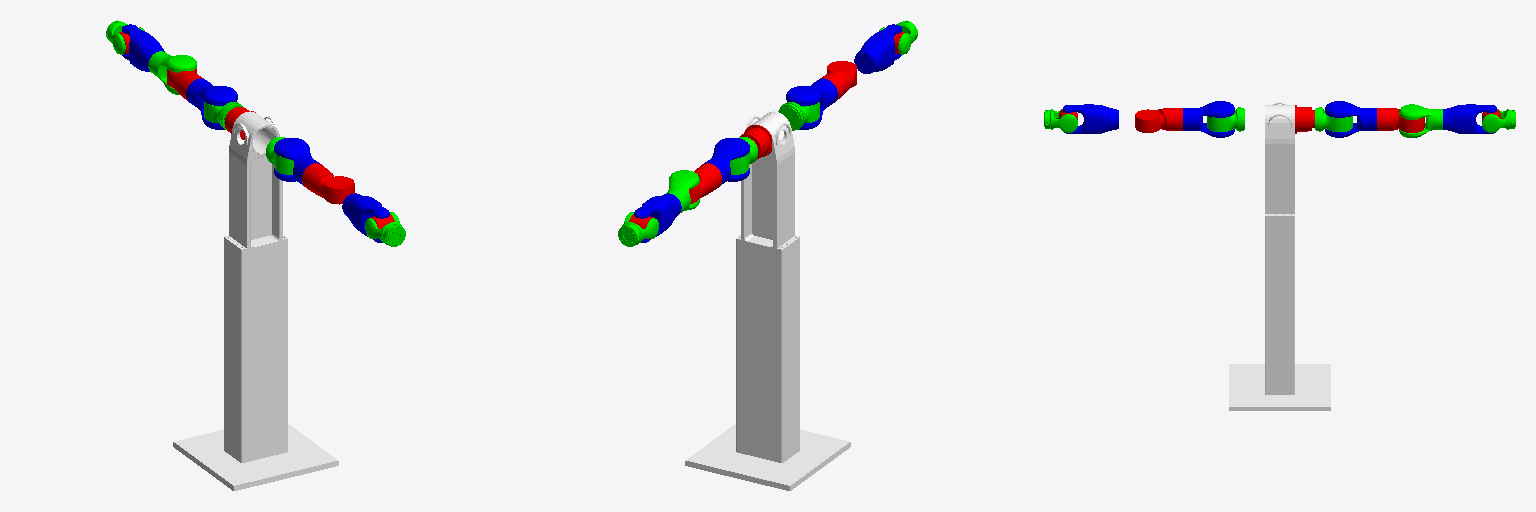
The robot description file, URDF, robot "daimon_tj_fx_dual_arm":
<?xml version='1.0' encoding='utf-8'?>
<robot name="daimon_tj_fx_dual_arm">
  <link name="base_root" />
  <joint name="base_root_joint" type="fixed">
    <origin xyz="0 0 0" rpy="0 0 0" />
    <parent link="base_root" />
    <child link="base_link" />
  </joint>
  <link name="base_link">
    <inertial>
      <origin xyz="6.5371E-09 5.7012E-05 -0.75896" rpy="0 0 0" />
      <mass value="22.519" />
      <inertia ixx="2.3917" ixy="-1.9403E-08" ixz="-1.0872E-07" iyy="2.3623" iyz="-0.00097072" izz="0.1594" />
    </inertial>
    <visual>
      <origin xyz="0 0 0" rpy="0 0 -1.5708" />
      <geometry>
        <mesh filename="package://daimon_tj_fx_description/meshes/base/base_link.STL" />
      </geometry>
      <material name="base_white">
        <color rgba="1 1 1 1" />
      </material>
    </visual>
    <collision>
      <origin xyz="0 0 0" rpy="0 0 -1.5708" />
      <geometry>
        <mesh filename="package://daimon_tj_fx_description/meshes/base/base_link.STL" />
      </geometry>
    </collision>
  </link>
  <link name="Link_L">
    <inertial>
      <origin xyz="0.005 -2.0841E-18 2.1398E-18" rpy="0 0 0" />
      <mass value="0.011184" />
      <inertia ixx="2.2192E-05" ixy="-1.7213E-21" ixz="4.7087E-21" iyy="1.1189E-05" iyz="0" izz="1.1189E-05" />
    </inertial>
    <visual>
      <origin xyz="0 0 0" rpy="0 0 0" />
      <geometry>
        <mesh filename="package://daimon_tj_fx_description/meshes/base/Link_L.STL" />
      </geometry>
      <material name="base_white" />
    </visual>
    <collision>
      <origin xyz="0 0 0" rpy="0 0 0" />
      <geometry>
        <mesh filename="package://daimon_tj_fx_description/meshes/base/Link_L.STL" />
      </geometry>
    </collision>
  </link>
  <joint name="base_to_Link_L_joint" type="fixed">
    <origin xyz="-0.06 0 0" rpy="0 0 0" />
    <parent link="base_link" />
    <child link="Link_L" />
  </joint>
  <link name="Link_R">
    <inertial>
      <origin xyz="-0.005 -3.238E-19 -6.2177E-18" rpy="0 0 0" />
      <mass value="0.011184" />
      <inertia ixx="2.2192E-05" ixy="-2.0036E-21" ixz="4.7087E-21" iyy="1.1189E-05" iyz="-2.4074E-35" izz="1.1189E-05" />
    </inertial>
    <visual>
      <origin xyz="0 0 0" rpy="0 0 0" />
      <geometry>
        <mesh filename="package://daimon_tj_fx_description/meshes/base/Link_R.STL" />
      </geometry>
      <material name="base_white" />
    </visual>
    <collision>
      <origin xyz="0 0 0" rpy="0 0 0" />
      <geometry>
        <mesh filename="package://daimon_tj_fx_description/meshes/base/Link_R.STL" />
      </geometry>
    </collision>
  </link>
  <joint name="base_to_Link_R_joint" type="fixed">
    <origin xyz="0.06 0 0" rpy="0 0 0" />
    <parent link="base_link" />
    <child link="Link_R" />
  </joint>
  <joint name="Link_L_to_Base_L_joint" type="fixed">
    <origin xyz="0.06 0.06 0" rpy="-1.5708 0 0" />
    <parent link="Link_L" />
    <child link="Base_L" />
  </joint>
  <joint name="Link_R_to_Base_R_joint" type="fixed">
    <origin xyz="-0.06 -0.06 0" rpy="1.5708 0 0" />
    <parent link="Link_R" />
    <child link="Base_R" />
  </joint>
  <link name="Base_L">
    <inertial>
      <origin xyz="0.00032267 4.798E-05 0.04066353" rpy="0 0 0" />
      <mass value="1.1962" />
      <inertia ixx="0.00107329" ixy="-1.68E-06" ixz="-1.05E-05" iyy="0.00107003" iyz="-3.43E-06" izz="0.00127315" />
    </inertial>
    <visual>
      <origin xyz="0 0 0" rpy="0 0 0" />
      <geometry>
        <mesh filename="package://daimon_tj_fx_description/meshes/left/Base_L.STL" />
      </geometry>
      <material name="">
        <color rgba="1 0 0 1" />
      </material>
    </visual>
    <collision>
      <origin xyz="0 0 0" rpy="0 0 0" />
      <geometry>
        <mesh filename="package://daimon_tj_fx_description/meshes/left/Base_L.STL" />
      </geometry>
    </collision>
  </link>
  <link name="Link1_L">
    <inertial>
      <origin xyz="0.00002347 0.00557150 -0.03075998" rpy="0 0 0" />
      <mass value="1.9705" />
      <inertia ixx="0.00492293" ixy="0.00000550" ixz="0.00000193" iyy="0.00526513" iyz="0.00033232" izz="0.00188107" />
    </inertial>
    <visual>
      <origin xyz="0 0 0" rpy="0 0 0" />
      <geometry>
        <mesh filename="package://daimon_tj_fx_description/meshes/left/Link1_L.STL" />
      </geometry>
      <material name="">
        <color rgba="0 1 0 1" />
      </material>
    </visual>
    <collision>
      <origin xyz="0 0 0" rpy="0 0 0" />
      <geometry>
        <mesh filename="package://daimon_tj_fx_description/meshes/left/Link1_L.STL" />
      </geometry>
    </collision>
  </link>
  <joint name="Joint1_L" type="revolute">
    <origin xyz="0 0 0.1745" rpy="0 0 0" />
    <parent link="Base_L" />
    <child link="Link1_L" />
    <axis xyz="0 0 1" />
    <limit lower="-3.1067" upper="3.1067" effort="108" velocity="3.1416" />
  </joint>
  <link name="Link2_L">
    <inertial>
      <origin xyz="0.00013483 0.06170460 0.00950639" rpy="0 0 0" />
      <mass value="2.24398" />
      <inertia ixx="0.01194933" ixy="0.00000336" ixz="0.00000091" iyy="0.00361581" iyz="-0.00132804" izz="0.01098356" />
    </inertial>
    <visual>
      <origin xyz="0 0 0" rpy="0 0 0" />
      <geometry>
        <mesh filename="package://daimon_tj_fx_description/meshes/left/Link2_L.STL" />
      </geometry>
      <material name="">
        <color rgba="0 0 1 1" />
      </material>
    </visual>
    <collision>
      <origin xyz="0 0 0" rpy="0 0 0" />
      <geometry>
        <mesh filename="package://daimon_tj_fx_description/meshes/left/Link2_L.STL" />
      </geometry>
    </collision>
  </link>
  <joint name="Joint2_L" type="revolute">
    <origin xyz="0 0 0" rpy="1.5708 0 0" />
    <parent link="Link1_L" />
    <child link="Link2_L" />
    <axis xyz="0 0 1" />
    <limit lower="-2.0944" upper="2.0944" effort="108" velocity="3.1416" />
  </joint>
  <link name="Link3_L">
    <inertial>
      <origin xyz="0.00968562 0.00246599 -0.04627302" rpy="0 0 0" />
      <mass value="1.9242" />
      <inertia ixx="0.00718224" ixy="0.00004413" ixz="0.00089552" iyy="0.00762563" iyz="0.00022096" izz="0.00178597" />
    </inertial>
    <visual>
      <origin xyz="0 0 0" rpy="0 0 0" />
      <geometry>
        <mesh filename="package://daimon_tj_fx_description/meshes/left/Link3_L.STL" />
      </geometry>
      <material name="">
        <color rgba="1 0 0 1" />
      </material>
    </visual>
    <collision>
      <origin xyz="0 0 0" rpy="0 0 0" />
      <geometry>
        <mesh filename="package://daimon_tj_fx_description/meshes/left/Link3_L.STL" />
      </geometry>
    </collision>
  </link>
  <joint name="Joint3_L" type="revolute">
    <origin xyz="0 0.287 0" rpy="-1.5708 0 0" />
    <parent link="Link2_L" />
    <child link="Link3_L" />
    <axis xyz="0 0 1" />
    <limit lower="-3.1067" upper="3.1067" effort="66" velocity="3.1416" />
  </joint>
  <link name="Link4_L">
    <inertial>
      <origin xyz="0.00850411 -0.04718223 0.00941509" rpy="0 0 0" />
      <mass value="1.6085" />
      <inertia ixx="0.00580480" ixy="-0.00066669" ixz="-0.00012722" iyy="0.00223807" iyz="0.00070523" izz="0.00533060" />
    </inertial>
    <visual>
      <origin xyz="0 0 0" rpy="0 0 0" />
      <geometry>
        <mesh filename="package://daimon_tj_fx_description/meshes/left/Link4_L.STL" />
      </geometry>
      <material name="">
        <color rgba="0 1 0 1" />
      </material>
    </visual>
    <collision>
      <origin xyz="0 0 0" rpy="0 0 0" />
      <geometry>
        <mesh filename="package://daimon_tj_fx_description/meshes/left/Link4_L.STL" />
      </geometry>
    </collision>
  </link>
  <joint name="Joint4_L" type="revolute">
    <origin xyz="0.018 0 0" rpy="-1.5708 0 3.1416" />
    <parent link="Link3_L" />
    <child link="Link4_L" />
    <axis xyz="0 0 1" />
    <limit lower="-2.5307" upper="1.0472" effort="66" velocity="3.1416" />
  </joint>
  <link name="Link5_L">
    <inertial>
      <origin xyz="0.00051127 0.00101064 -0.11271739" rpy="0 0 0" />
      <mass value="2.0883" />
      <inertia ixx="0.00626603" ixy="0.00004009" ixz="0.00005338" iyy="0.00564387" iyz="-0.00006193" izz="0.00243632" />
    </inertial>
    <visual>
      <origin xyz="0 0 0" rpy="0 0 0" />
      <geometry>
        <mesh filename="package://daimon_tj_fx_description/meshes/left/Link5_L.STL" />
      </geometry>
      <material name="">
        <color rgba="0 0 1 1" />
      </material>
    </visual>
    <collision>
      <origin xyz="0 0 0" rpy="0 0 0" />
      <geometry>
        <mesh filename="package://daimon_tj_fx_description/meshes/left/Link5_L.STL" />
      </geometry>
    </collision>
  </link>
  <joint name="Joint5_L" type="revolute">
    <origin xyz="0.018 -0.314 0" rpy="-1.5708 0 3.1416" />
    <parent link="Link4_L" />
    <child link="Link5_L" />
    <axis xyz="0 0 1" />
    <limit lower="-3.1067" upper="3.1067" effort="18" velocity="3.1416" />
  </joint>
  <link name="Link6_L">
    <inertial>
      <origin xyz="0.00032659 0.00531336 -0.00030182" rpy="0 0 0" />
      <mass value="0.72496" />
      <inertia ixx="0.00046040" ixy="0.00000189" ixz="0.00000083" iyy="0.00051716" iyz="-0.00000346" izz="0.00042521" />
    </inertial>
    <visual>
      <origin xyz="0 0 0" rpy="0 0 0" />
      <geometry>
        <mesh filename="package://daimon_tj_fx_description/meshes/left/Link6_L.STL" />
      </geometry>
      <material name="">
        <color rgba="1 0 0 1" />
      </material>
    </visual>
    <collision>
      <origin xyz="0 0 0" rpy="0 0 0" />
      <geometry>
        <mesh filename="package://daimon_tj_fx_description/meshes/left/Link6_L.STL" />
      </geometry>
    </collision>
  </link>
  <joint name="Joint6_L" type="revolute">
    <origin xyz="0 0 0" rpy="1.5708 -1.5708 0" />
    <parent link="Link5_L" />
    <child link="Link6_L" />
    <axis xyz="0 0 1" />
    <limit lower="-1.0472" upper="1.0472" effort="18" velocity="3.1416" />
  </joint>
  <link name="Link7_L">
    <inertial>
      <origin xyz="-0.00009108 -0.03153255 0.00889371" rpy="0 0 0" />
      <mass value="0.68606" />
      <inertia ixx="0.00173687" ixy="-0.00000345" ixz="-0.00000116" iyy="0.00089035" iyz="0.00030680" izz="0.00139406" />
    </inertial>
    <visual>
      <origin xyz="0 0 0" rpy="0 0 0" />
      <geometry>
        <mesh filename="package://daimon_tj_fx_description/meshes/left/Link7_L.STL" />
      </geometry>
      <material name="">
        <color rgba="0 1 0 1" />
      </material>
    </visual>
    <collision>
      <origin xyz="0 0 0" rpy="0 0 0" />
      <geometry>
        <mesh filename="package://daimon_tj_fx_description/meshes/left/Link7_L.STL" />
      </geometry>
    </collision>
  </link>
  <joint name="Joint7_L" type="revolute">
    <origin xyz="0 0 0" rpy="1.5708 -1.5708 0" />
    <parent link="Link6_L" />
    <child link="Link7_L" />
    <axis xyz="0 0 1" />
    <limit lower="-1.5708" upper="1.5708" effort="18" velocity="3.1416" />
  </joint>
  <link name="ee_link_L" />
  <joint name="ee_fixed_joint_L" type="fixed">
    <origin xyz="0 -0.095 0" rpy="0 0 0" />
    <parent link="Link7_L" />
    <child link="ee_link_L" />
  </joint>
  <link name="Base_R">
    <inertial>
      <origin xyz="0.00032267 4.798E-05 0.04066353" rpy="0 0 0" />
      <mass value="1.1962" />
      <inertia ixx="0.00107329" ixy="-1.68E-06" ixz="-1.05E-05" iyy="0.00107003" iyz="-3.43E-06" izz="0.00127315" />
    </inertial>
    <visual>
      <origin xyz="0 0 0" rpy="0 0 0" />
      <geometry>
        <mesh filename="package://daimon_tj_fx_description/meshes/right/Base_R.STL" />
      </geometry>
      <material name="">
        <color rgba="1 0 0 1" />
      </material>
    </visual>
    <collision>
      <origin xyz="0 0 0" rpy="0 0 0" />
      <geometry>
        <mesh filename="package://daimon_tj_fx_description/meshes/right/Base_R.STL" />
      </geometry>
    </collision>
  </link>
  <link name="Link1_R">
    <inertial>
      <origin xyz="0.00002347 0.00557150 -0.03075998" rpy="0 0 0" />
      <mass value="1.9705" />
      <inertia ixx="0.00492293" ixy="0.00000550" ixz="0.00000193" iyy="0.00526513" iyz="0.00033232" izz="0.00188107" />
    </inertial>
    <visual>
      <origin xyz="0 0 0" rpy="0 0 0" />
      <geometry>
        <mesh filename="package://daimon_tj_fx_description/meshes/right/Link1_R.STL" />
      </geometry>
      <material name="">
        <color rgba="0 1 0 1" />
      </material>
    </visual>
    <collision>
      <origin xyz="0 0 0" rpy="0 0 0" />
      <geometry>
        <mesh filename="package://daimon_tj_fx_description/meshes/right/Link1_R.STL" />
      </geometry>
    </collision>
  </link>
  <joint name="Joint1_R" type="revolute">
    <origin xyz="0 0 0.1745" rpy="0 0 0" />
    <parent link="Base_R" />
    <child link="Link1_R" />
    <axis xyz="0 0 1" />
    <limit lower="-3.1067" upper="3.1067" effort="108" velocity="3.1416" />
  </joint>
  <link name="Link2_R">
    <inertial>
      <origin xyz="0.00013483 0.06170460 0.00950639" rpy="0 0 0" />
      <mass value="2.24398" />
      <inertia ixx="0.01194933" ixy="0.00000336" ixz="0.00000091" iyy="0.00361581" iyz="-0.00132804" izz="0.01098356" />
    </inertial>
    <visual>
      <origin xyz="0 0 0" rpy="0 0 0" />
      <geometry>
        <mesh filename="package://daimon_tj_fx_description/meshes/right/Link2_R.STL" />
      </geometry>
      <material name="">
        <color rgba="0 0 1 1" />
      </material>
    </visual>
    <collision>
      <origin xyz="0 0 0" rpy="0 0 0" />
      <geometry>
        <mesh filename="package://daimon_tj_fx_description/meshes/right/Link2_R.STL" />
      </geometry>
    </collision>
  </link>
  <joint name="Joint2_R" type="revolute">
    <origin xyz="0 0 0" rpy="1.5708 0 0" />
    <parent link="Link1_R" />
    <child link="Link2_R" />
    <axis xyz="0 0 1" />
    <limit lower="-2.0944" upper="2.0944" effort="108" velocity="3.1416" />
  </joint>
  <link name="Link3_R">
    <inertial>
      <origin xyz="0.00968562 0.00246599 -0.04627302" rpy="0 0 0" />
      <mass value="1.9242" />
      <inertia ixx="0.00718224" ixy="0.00004413" ixz="0.00089552" iyy="0.00762563" iyz="0.00022096" izz="0.00178597" />
    </inertial>
    <visual>
      <origin xyz="0 0 0" rpy="0 0 0" />
      <geometry>
        <mesh filename="package://daimon_tj_fx_description/meshes/right/Link3_R.STL" />
      </geometry>
      <material name="">
        <color rgba="1 0 0 1" />
      </material>
    </visual>
    <collision>
      <origin xyz="0 0 0" rpy="0 0 0" />
      <geometry>
        <mesh filename="package://daimon_tj_fx_description/meshes/right/Link3_R.STL" />
      </geometry>
    </collision>
  </link>
  <joint name="Joint3_R" type="revolute">
    <origin xyz="0 0.287 0" rpy="-1.5708 0 0" />
    <parent link="Link2_R" />
    <child link="Link3_R" />
    <axis xyz="0 0 1" />
    <limit lower="-3.1067" upper="3.1067" effort="66" velocity="3.1416" />
  </joint>
  <link name="Link4_R">
    <inertial>
      <origin xyz="0.00850411 -0.04718223 0.00941509" rpy="0 0 0" />
      <mass value="1.6085" />
      <inertia ixx="0.00580480" ixy="-0.00066669" ixz="-0.00012722" iyy="0.00223807" iyz="0.00070523" izz="0.00533060" />
    </inertial>
    <visual>
      <origin xyz="0 0 0" rpy="0 0 0" />
      <geometry>
        <mesh filename="package://daimon_tj_fx_description/meshes/right/Link4_R.STL" />
      </geometry>
      <material name="">
        <color rgba="0 1 0 1" />
      </material>
    </visual>
    <collision>
      <origin xyz="0 0 0" rpy="0 0 0" />
      <geometry>
        <mesh filename="package://daimon_tj_fx_description/meshes/right/Link4_R.STL" />
      </geometry>
    </collision>
  </link>
  <joint name="Joint4_R" type="revolute">
    <origin xyz="0.018 0 0" rpy="-1.5708 0 3.1416" />
    <parent link="Link3_R" />
    <child link="Link4_R" />
    <axis xyz="0 0 1" />
    <limit lower="-2.5307" upper="1.0472" effort="66" velocity="3.1416" />
  </joint>
  <link name="Link5_R">
    <inertial>
      <origin xyz="-0.00051127 -0.00101064 -0.11271739" rpy="0 0 0" />
      <mass value="2.0883" />
      <inertia ixx="0.00626603" ixy="0.00004009" ixz="-0.00005338" iyy="0.00564387" iyz="0.00006193" izz="0.00243632" />
    </inertial>
    <visual>
      <origin xyz="0 0 0" rpy="0 0 0" />
      <geometry>
        <mesh filename="package://daimon_tj_fx_description/meshes/right/Link5_R.STL" />
      </geometry>
      <material name="">
        <color rgba="0 0 1 1" />
      </material>
    </visual>
    <collision>
      <origin xyz="0 0 0" rpy="0 0 0" />
      <geometry>
        <mesh filename="package://daimon_tj_fx_description/meshes/right/Link5_R.STL" />
      </geometry>
    </collision>
  </link>
  <joint name="Joint5_R" type="revolute">
    <origin xyz="0.018 -0.314 0" rpy="-1.5708 0 3.1416" />
    <parent link="Link4_R" />
    <child link="Link5_R" />
    <axis xyz="0 0 1" />
    <limit lower="-3.1067" upper="3.1067" effort="18" velocity="3.1416" />
  </joint>
  <link name="Link6_R">
    <inertial>
      <origin xyz="0.00032659 -0.00531336 0.00030182" rpy="0 0 0" />
      <mass value="0.72496" />
      <inertia ixx="0.00046040" ixy="-0.00000189" ixz="-0.00000083" iyy="0.00051716" iyz="-0.00000346" izz="0.00042521" />
    </inertial>
    <visual>
      <origin xyz="0 0 0" rpy="0 0 0" />
      <geometry>
        <mesh filename="package://daimon_tj_fx_description/meshes/right/Link6_R.STL" />
      </geometry>
      <material name="">
        <color rgba="1 0 0 1" />
      </material>
    </visual>
    <collision>
      <origin xyz="0 0 0" rpy="0 0 0" />
      <geometry>
        <mesh filename="package://daimon_tj_fx_description/meshes/right/Link6_R.STL" />
      </geometry>
    </collision>
  </link>
  <joint name="Joint6_R" type="revolute">
    <origin xyz="0 0 0" rpy="1.5708 -1.5708 0" />
    <parent link="Link5_R" />
    <child link="Link6_R" />
    <axis xyz="0 0 1" />
    <limit lower="-1.0472" upper="1.0472" effort="18" velocity="3.1416" />
  </joint>
  <link name="Link7_R">
    <inertial>
      <origin xyz="-0.00009108 -0.03153255 0.00889371" rpy="0 0 0" />
      <mass value="0.68606" />
      <inertia ixx="0.00173687" ixy="-0.00000345" ixz="-0.00000116" iyy="0.00089035" iyz="0.00030680" izz="0.00139406" />
    </inertial>
    <visual>
      <origin xyz="0 0 0" rpy="0 0 0" />
      <geometry>
        <mesh filename="package://daimon_tj_fx_description/meshes/right/Link7_R.STL" />
      </geometry>
      <material name="">
        <color rgba="0 1 0 1" />
      </material>
    </visual>
    <collision>
      <origin xyz="0 0 0" rpy="0 0 0" />
      <geometry>
        <mesh filename="package://daimon_tj_fx_description/meshes/right/Link7_R.STL" />
      </geometry>
    </collision>
  </link>
  <joint name="Joint7_R" type="revolute">
    <origin xyz="0 0 0" rpy="1.5708 -1.5708 0" />
    <parent link="Link6_R" />
    <child link="Link7_R" />
    <axis xyz="0 0 1" />
    <limit lower="-1.5708" upper="1.5708" effort="18" velocity="3.1416" />
  </joint>
  <link name="ee_link_R" />
  <joint name="ee_fixed_joint_R" type="fixed">
    <origin xyz="0 -0.095 0" rpy="0 0 0" />
    <parent link="Link7_R" />
    <child link="ee_link_R" />
  </joint>
</robot>

--- What the picture shows (computed from the rendered views, not written in the file) ---
3 views of the same robot in one strip: view 1: azimuth 30°, elevation 25°; view 2: azimuth 150°, elevation 25°; view 3: azimuth 270°, elevation 25° (orthographic).
Model daimon_tj_fx_dual_arm with 22 links and 21 joints (14 revolute, 7 fixed), rooted at base_root, posed every joint at zero.
Visible links, largest first — view 1: base_link, Link3_R, Link2_L, Link2_R, Link5_R, Link5_L, Link4_L, Link7_R, Link3_L; view 2: base_link, Link5_R, Link2_R, Link2_L, Link5_L, Link4_L, Link3_R, Link7_L, Link3_L, Link1_R, Base_L; view 3: base_link, Link5_R, Link5_L, Link2_R, Link2_L, Link3_R, Link4_L, Link3_L, Link1_L, Link1_R, Link7_L, Link7_R.
Link boxes in pixels (<box>): base_link: <box>173,111,338,490</box>; Link3_R: <box>302,163,354,204</box>; Link2_L: <box>186,78,237,129</box>; Link2_R: <box>274,138,321,185</box>; Link5_R: <box>342,193,389,242</box>; Link5_L: <box>122,24,164,71</box>; Link4_L: <box>148,51,196,94</box>; Link7_R: <box>365,212,405,246</box>; Link3_L: <box>167,68,203,100</box>; base_link: <box>685,111,850,490</box>; Link5_R: <box>854,24,901,73</box>; Link2_R: <box>786,78,837,129</box>; Link2_L: <box>702,138,749,187</box>; Link5_L: <box>634,193,681,242</box>; Link4_L: <box>666,170,699,212</box>; Link3_R: <box>820,61,856,100</box>; Link7_L: <box>618,212,658,246</box>; Link3_L: <box>669,163,721,203</box>; Link1_R: <box>778,102,819,130</box>; Base_L: <box>740,125,771,159</box>; base_link: <box>1229,105,1330,410</box>; Link5_R: <box>1063,104,1118,133</box>; Link5_L: <box>1443,104,1496,133</box>; Link2_R: <box>1183,101,1234,137</box>; Link2_L: <box>1325,101,1376,137</box>; Link3_R: <box>1135,108,1182,132</box>; Link4_L: <box>1399,104,1442,137</box>; Link3_L: <box>1377,108,1424,132</box>; Link1_L: <box>1315,107,1352,131</box>; Link1_R: <box>1207,107,1244,131</box>; Link7_L: <box>1482,109,1515,132</box>; Link7_R: <box>1044,109,1077,132</box>.
Size in the robot's own frame: 0.4 by 1.86 by 1.24 metres.
Meshes: 19 distinct files referenced, 17 mesh visuals loaded (17 binary STL); not drawn: 2 (reference not matched to a file when rendering).
